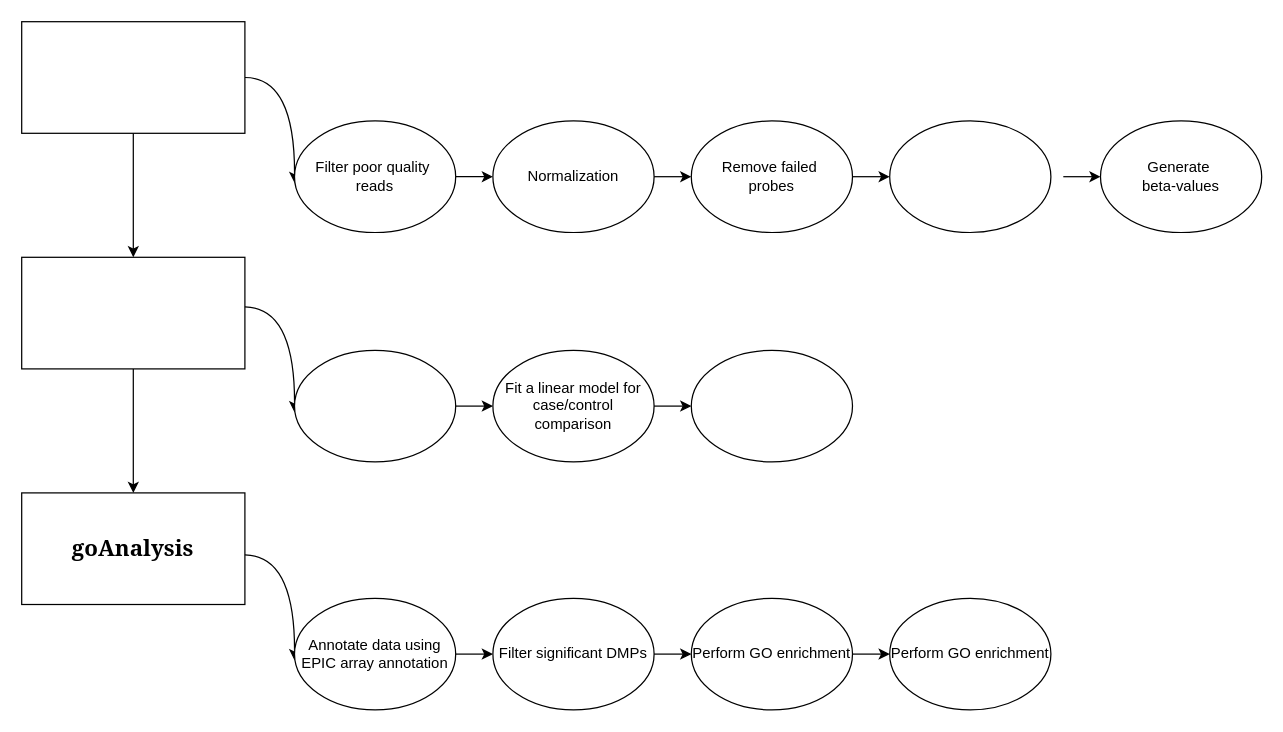
Some shapes in this 1283 by 732 pixel diagram are drawn without their labels. Each missing label, with the centre of its shape:
"Create a design matrix" goes at pixel 374 405.
"preprocessing" goes at pixel 132 76.
"Rank the top differentially methylated probes" goes at pixel 771 405.
"Remove probes with SNPs" goes at pixel 969 176.
"runDMPs" goes at pixel 132 312.
